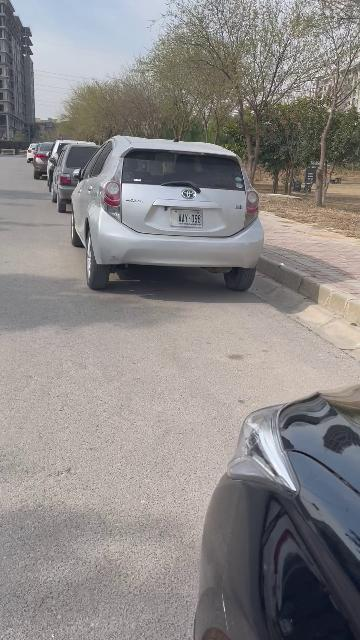plate: (169, 208, 205, 229)
